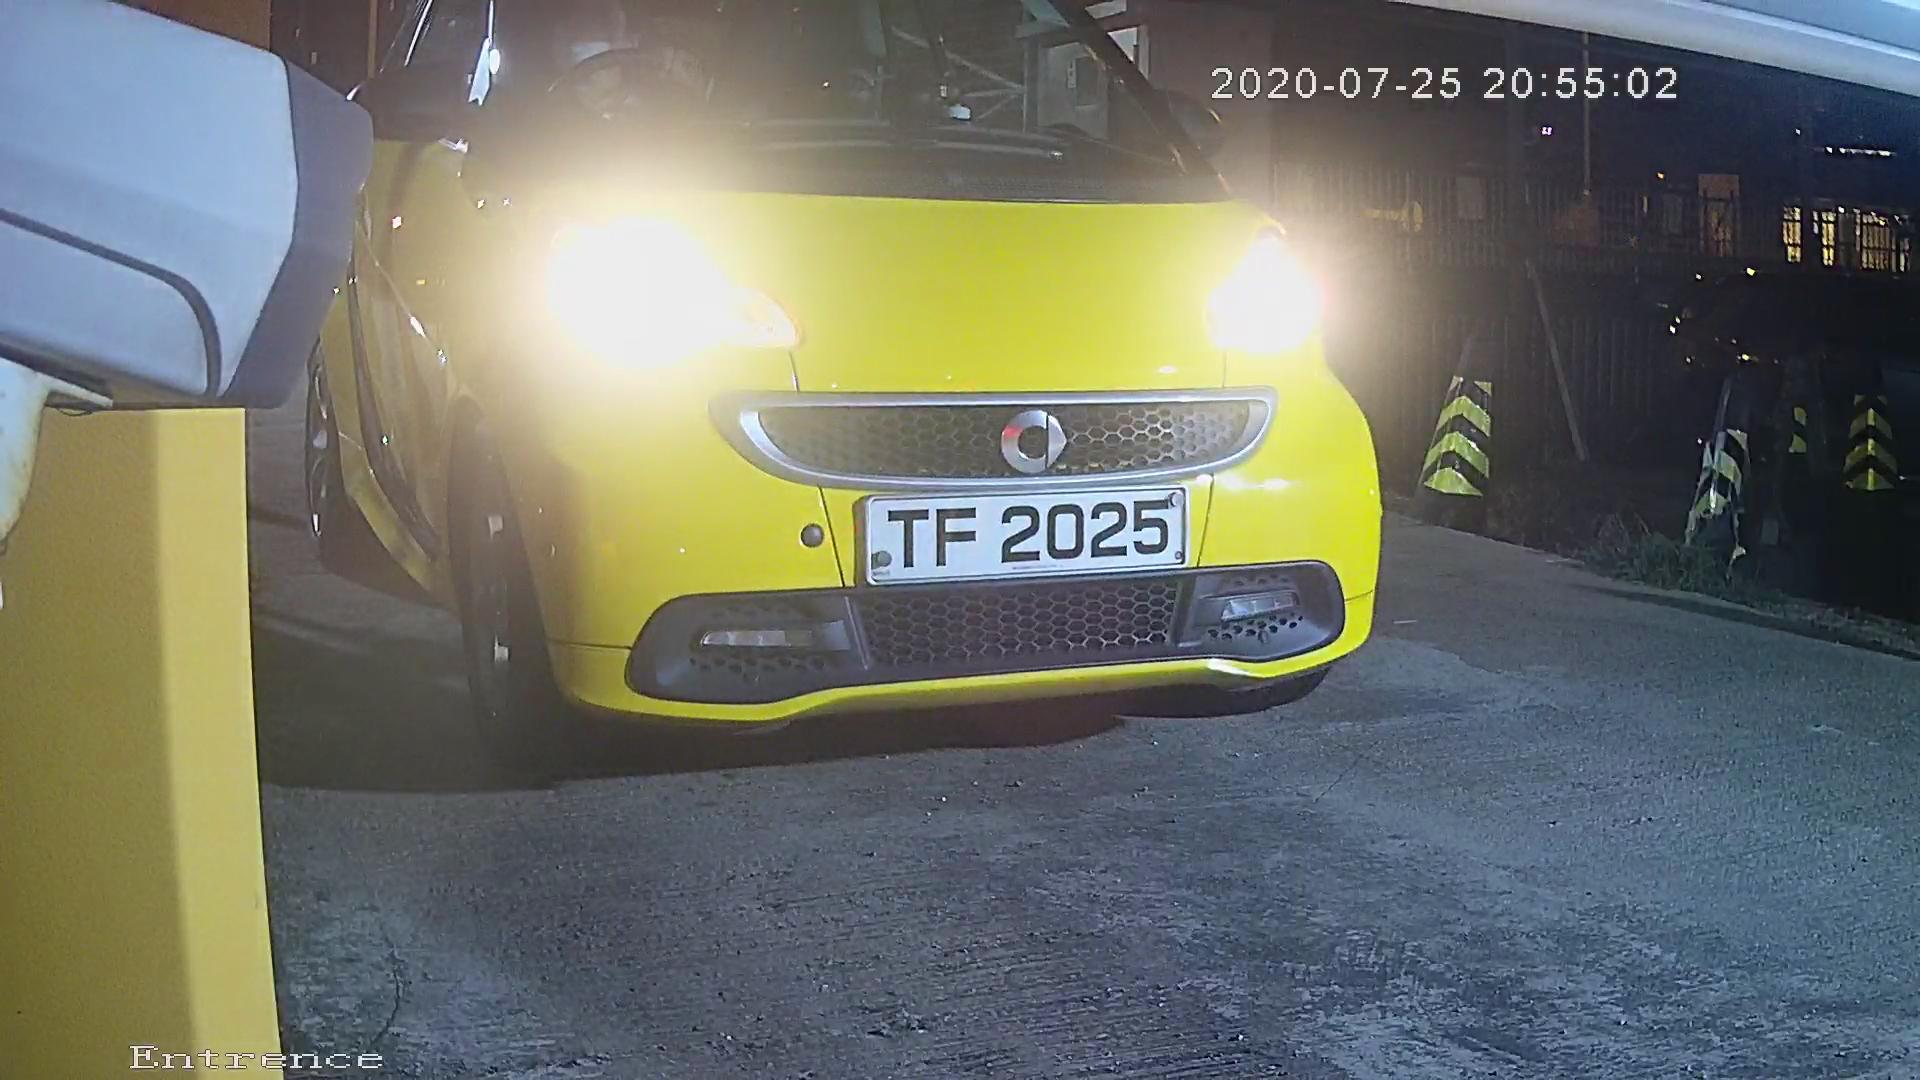Car: (206, 1, 1475, 820)
License Plate: (858, 468, 1192, 598)
